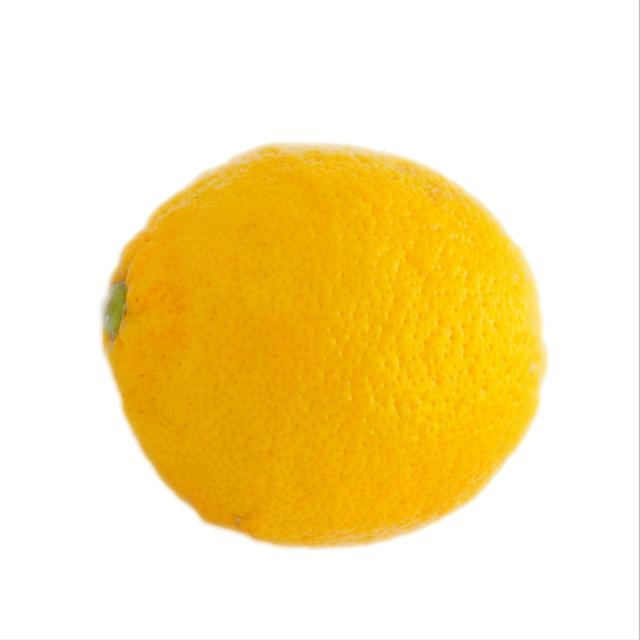lemon: (94, 135, 555, 557)
